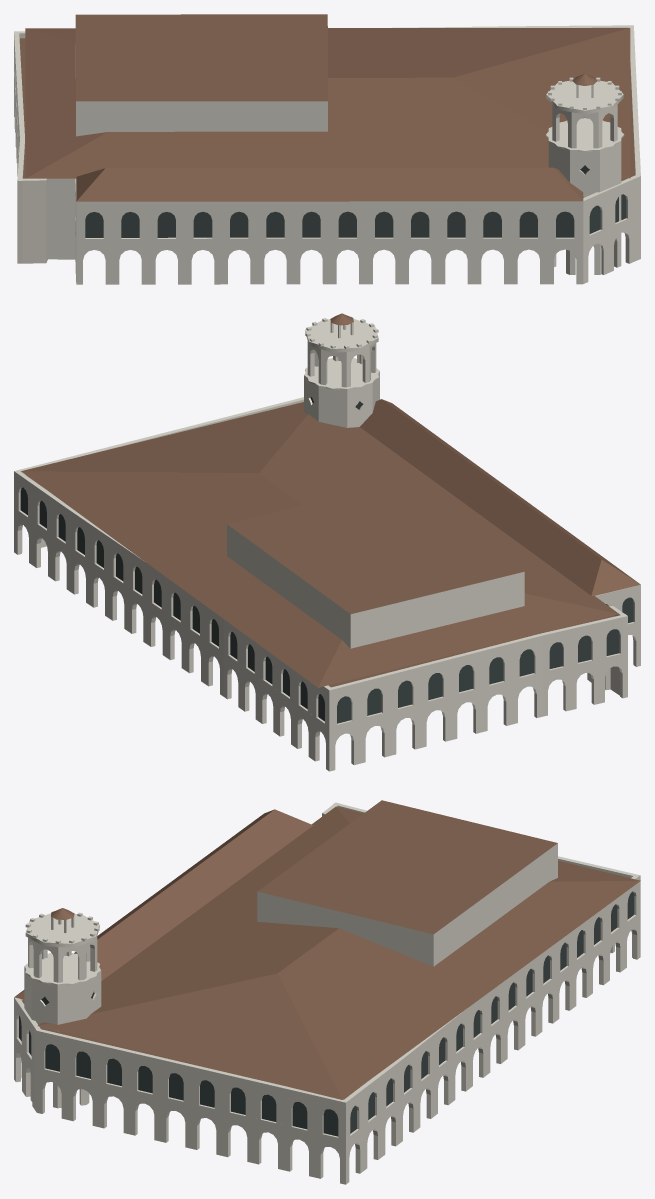
Rendered from riverside-fox-theater-far.glb.
3 views of the same model, one above another, from view 1: azimuth 30°, elevation 25°; view 2: azimuth 150°, elevation 25°; view 3: azimuth 270°, elevation 25° (orthographic). The views are drawn at different scales.
Visible parts, largest first — view 1: riverside-fox-theater-0-roof, riverside-fox-theater-0-stone, riverside-fox-theater-0-glass; view 2: riverside-fox-theater-0-roof, riverside-fox-theater-0-stone, riverside-fox-theater-0-glass; view 3: riverside-fox-theater-0-roof, riverside-fox-theater-0-stone, riverside-fox-theater-0-glass.
Part boxes in pixels (x1,y1,x2,y2): riverside-fox-theater-0-roof: (19,14,635,201); riverside-fox-theater-0-stone: (14,25,640,284); riverside-fox-theater-0-glass: (85,194,626,237); riverside-fox-theater-0-roof: (21,313,640,687); riverside-fox-theater-0-stone: (14,316,640,771); riverside-fox-theater-0-glass: (20,487,633,723); riverside-fox-theater-0-roof: (14,800,640,1099); riverside-fox-theater-0-stone: (14,802,640,1184); riverside-fox-theater-0-glass: (19,891,634,1136).
Bounding box in the file's own units: 76.89 × 22 × 67.86.
